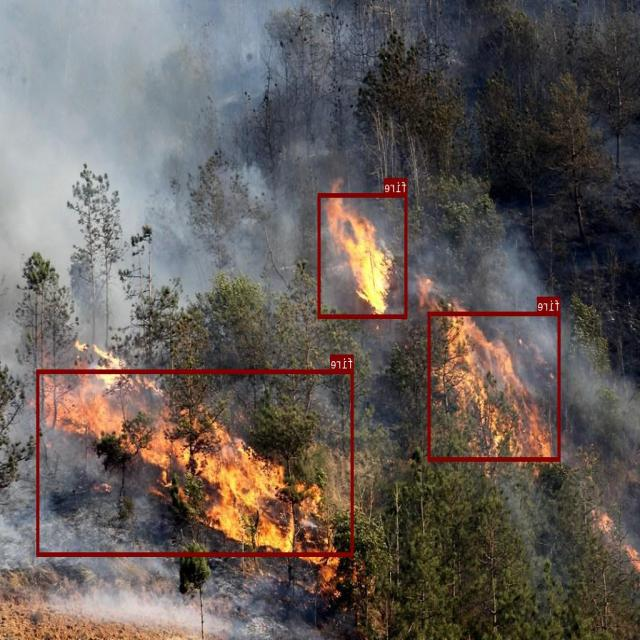fire: (37, 369, 354, 555), (429, 312, 561, 461), (318, 193, 408, 317)
